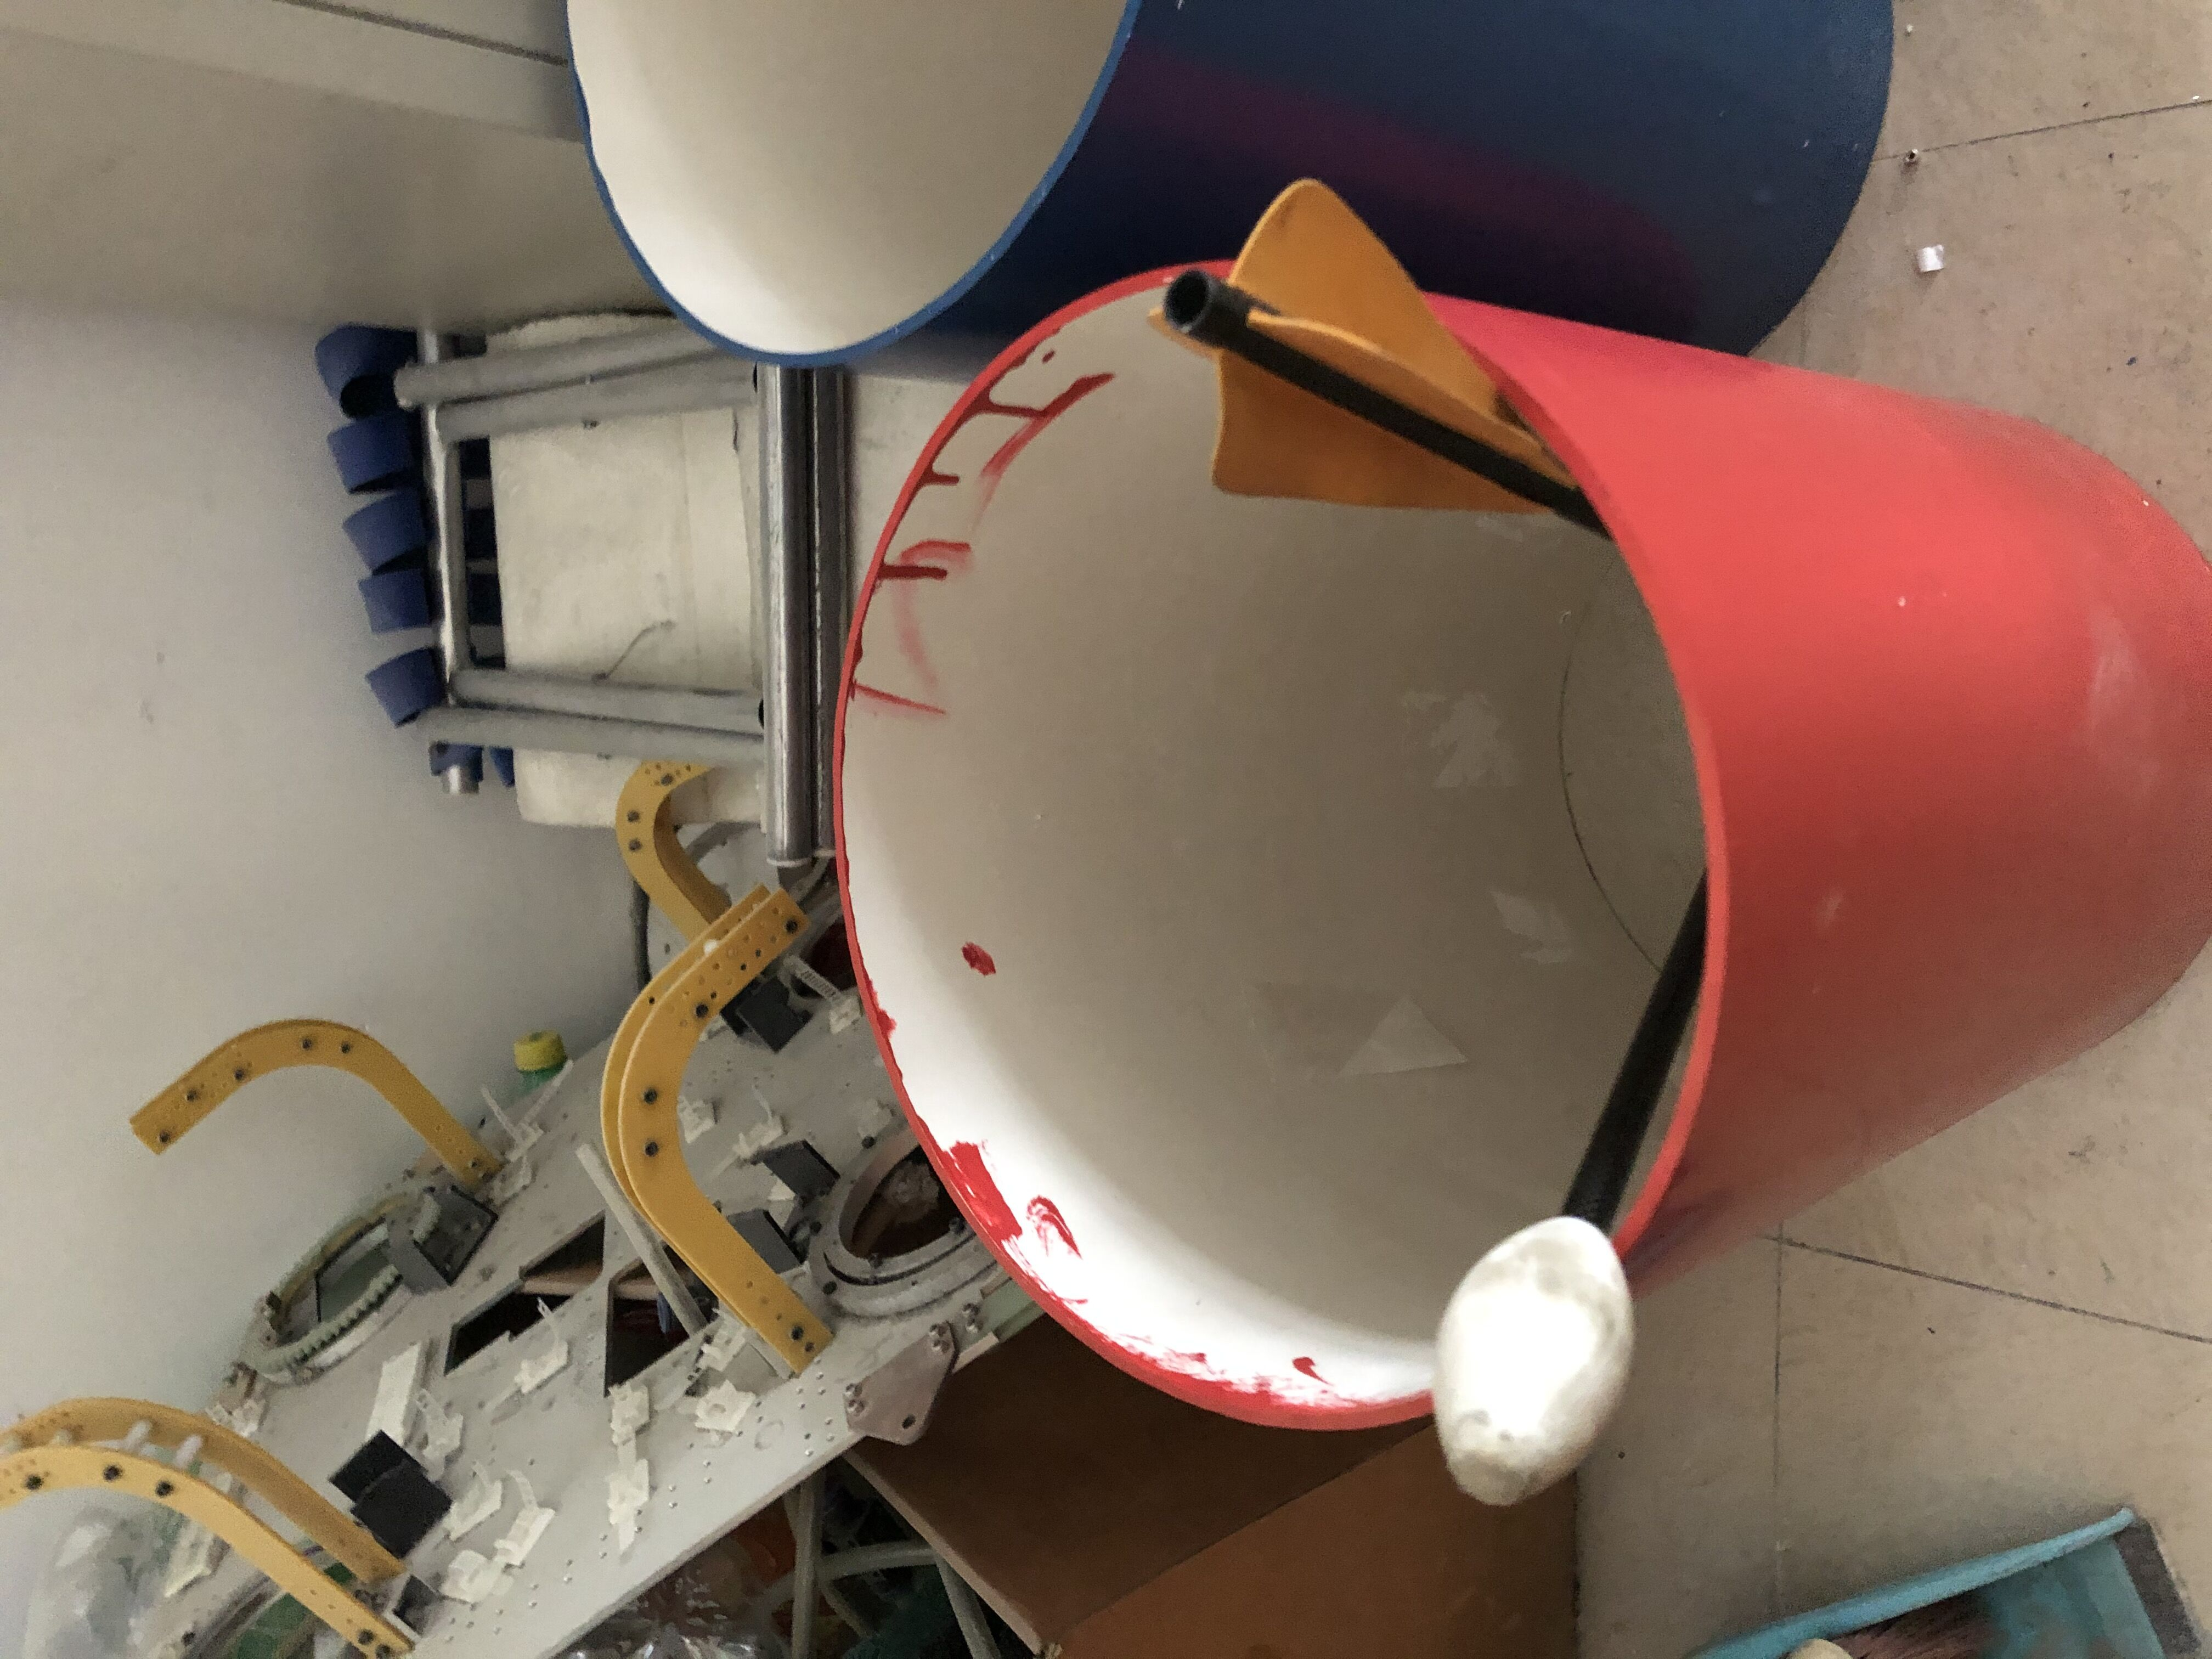arrow: (1430, 868, 1709, 1513), (1146, 181, 1594, 525)
arrowFront: (1432, 1208, 1644, 1514)
